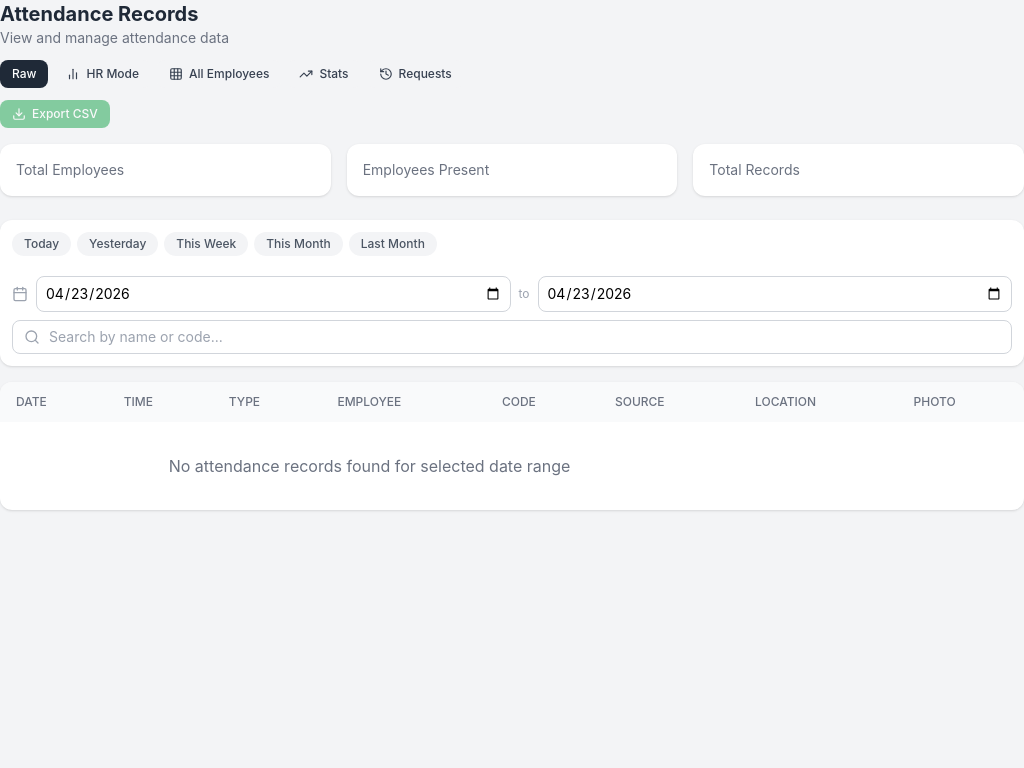
UI Test 02 — Attendance Page › Manual Entry modal closes on Cancel
The width and height of the screenshot is (1024, 768).
Click the button "HR Mode" at (103, 74), box [54, 60, 151, 88]
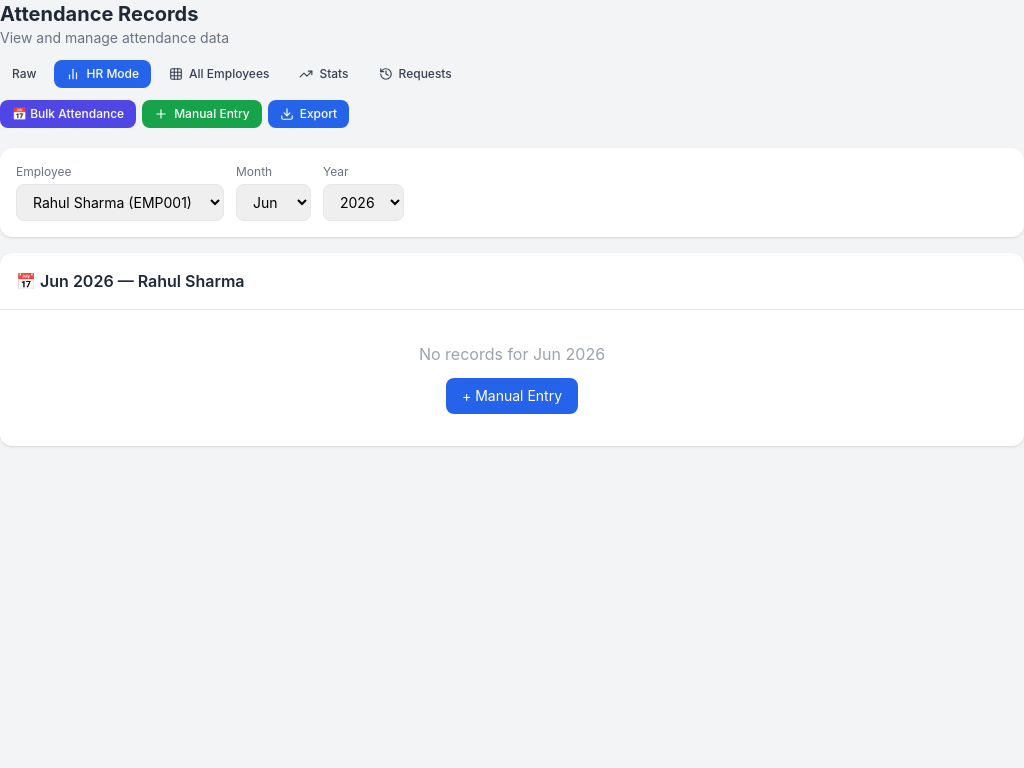
Expected: the button "Manual Entry" is shown
Click the button "Manual Entry" at (202, 114), box [142, 100, 262, 128]
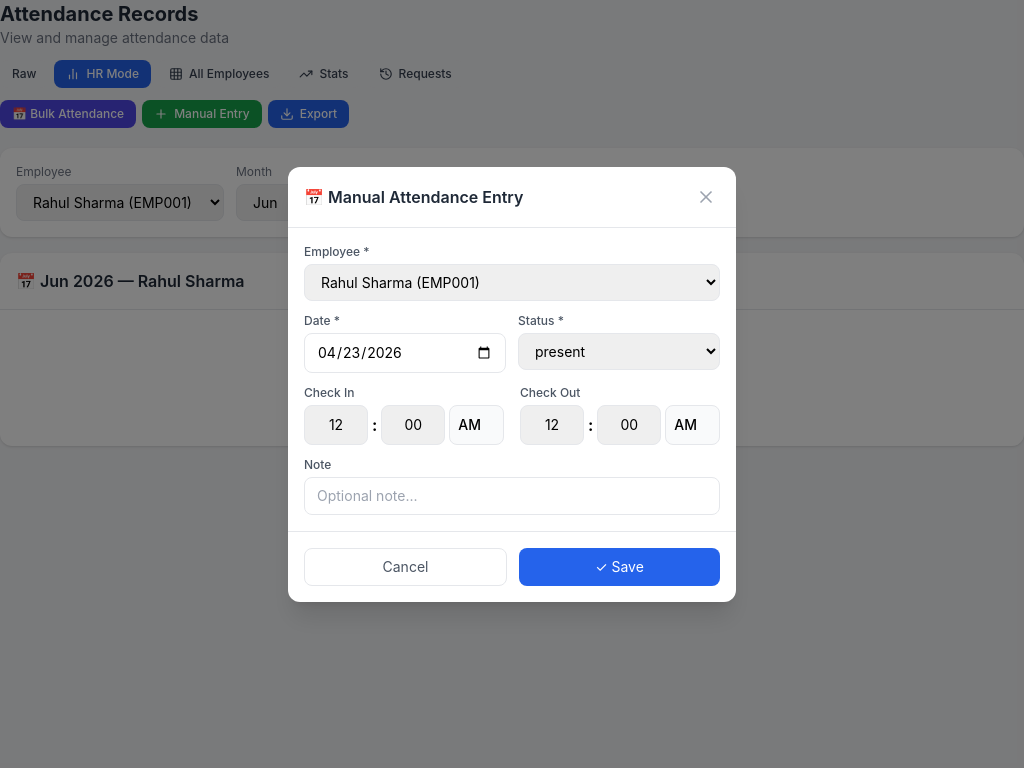
Expected: the heading "📅 Manual Attendance Entry" is shown, [304, 184, 523, 208]
Click the button "Cancel" at (406, 566), box [304, 548, 507, 586]
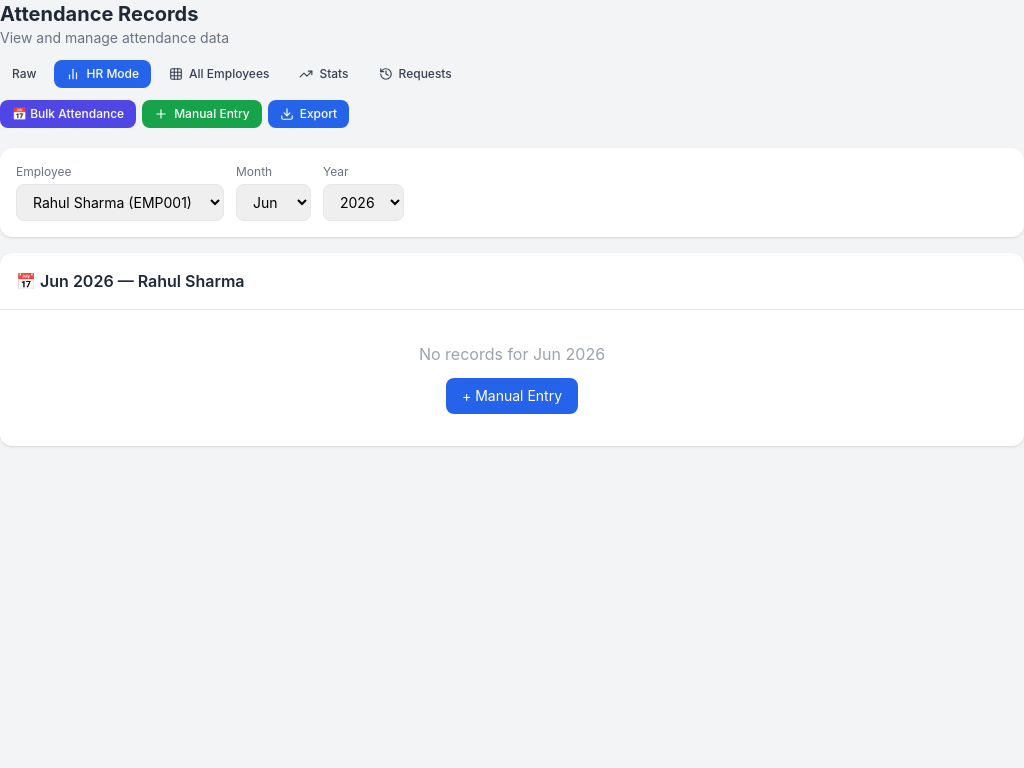
Expected: the heading "📅 Manual Attendance Entry" is gone
